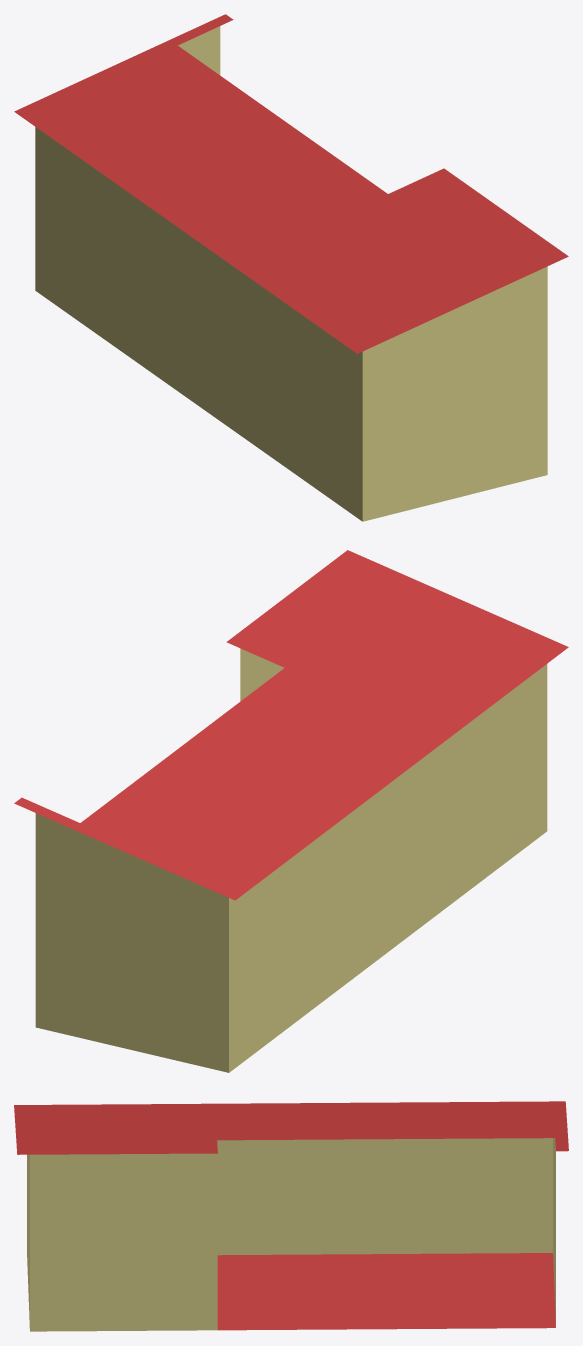
The picture shows the model from 3 angles, top to bottom: view 1: azimuth 30°, elevation 25°; view 2: azimuth 150°, elevation 25°; view 3: azimuth 270°, elevation 25°; orthographic projection. The views are drawn at different scales.
Size of the model in its own units: 8.22 by 21.47 by 7.78.
